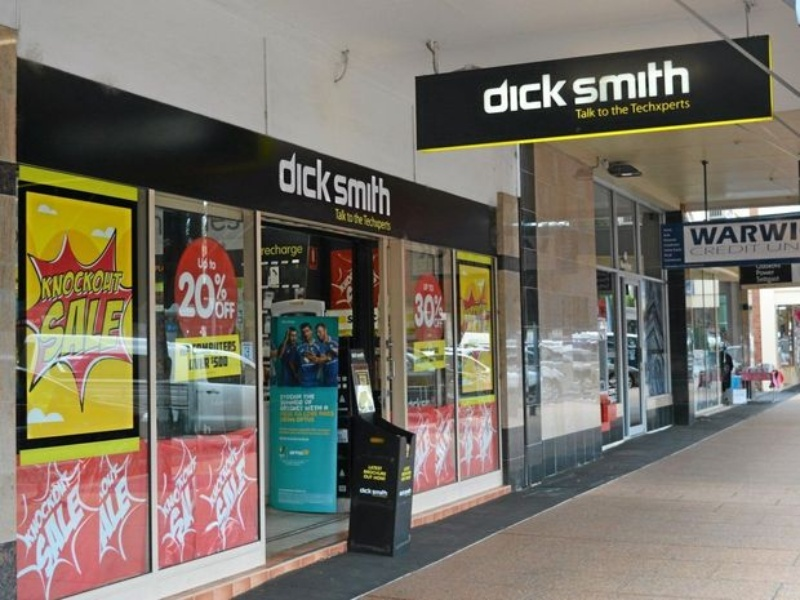text: (33, 482, 48, 579), (49, 482, 64, 579), (65, 482, 80, 579), (225, 452, 240, 532), (97, 474, 112, 551), (113, 474, 128, 551), (33, 478, 48, 549), (49, 478, 64, 549), (49, 293, 64, 363), (65, 293, 80, 363), (81, 293, 96, 363), (97, 293, 112, 363), (177, 481, 192, 551), (211, 452, 224, 532), (19, 478, 32, 549), (113, 293, 126, 363), (209, 447, 224, 504), (225, 447, 240, 504), (164, 481, 176, 551), (289, 149, 304, 203), (305, 149, 320, 203), (337, 168, 352, 217), (353, 168, 368, 217), (369, 168, 384, 217), (193, 270, 208, 319), (577, 57, 592, 105), (593, 57, 608, 105), (609, 57, 624, 105), (625, 57, 640, 105), (641, 57, 656, 105), (657, 57, 672, 105), (673, 57, 688, 105), (38, 293, 48, 363), (435, 421, 448, 474), (25, 482, 32, 579), (497, 70, 512, 115), (513, 70, 528, 115), (529, 70, 544, 115), (545, 70, 560, 115), (179, 270, 192, 319), (482, 70, 496, 115), (417, 430, 430, 477), (177, 452, 192, 492), (321, 149, 332, 203), (81, 482, 87, 579), (278, 149, 288, 203), (49, 266, 64, 301), (65, 266, 80, 301), (81, 266, 96, 301), (97, 266, 112, 301), (417, 293, 432, 328), (161, 486, 176, 518), (241, 452, 247, 532), (101, 461, 112, 497), (113, 266, 124, 301), (705, 221, 720, 246), (721, 221, 736, 246), (737, 221, 752, 246), (753, 221, 768, 246), (769, 221, 784, 246), (690, 221, 704, 246), (785, 221, 798, 246), (561, 70, 568, 115), (385, 168, 391, 217), (209, 270, 215, 319), (641, 97, 656, 115), (657, 97, 672, 115), (673, 97, 688, 115), (369, 213, 384, 231), (434, 295, 448, 314), (215, 273, 224, 300), (571, 57, 576, 105), (193, 355, 208, 371), (209, 355, 224, 371), (437, 419, 448, 440), (193, 340, 208, 355), (209, 340, 224, 355), (113, 461, 119, 497), (65, 478, 68, 549), (42, 266, 48, 301), (577, 106, 592, 119), (273, 244, 288, 257), (353, 212, 368, 225), (705, 243, 720, 256), (721, 243, 736, 256), (737, 243, 752, 256), (417, 422, 425, 446), (690, 243, 704, 256), (630, 97, 640, 115), (225, 340, 237, 355), (225, 301, 235, 319), (417, 354, 432, 366), (611, 104, 624, 117), (289, 244, 302, 257), (215, 301, 224, 319), (193, 452, 197, 492), (210, 259, 224, 270), (129, 474, 131, 551), (369, 487, 384, 497), (401, 468, 416, 478), (769, 242, 784, 252), (333, 168, 336, 217), (261, 244, 272, 257), (419, 346, 432, 357), (785, 242, 799, 252), (337, 207, 346, 222), (401, 474, 416, 483), (597, 106, 608, 118), (197, 257, 208, 269), (433, 354, 444, 366), (177, 486, 181, 518), (434, 319, 448, 328), (289, 404, 304, 412), (369, 469, 384, 477), (401, 487, 411, 499), (403, 464, 416, 473), (206, 447, 208, 504), (241, 447, 243, 504), (305, 404, 320, 411), (369, 474, 384, 481), (755, 275, 768, 283), (689, 57, 691, 105), (289, 394, 302, 401), (755, 262, 768, 269), (363, 213, 368, 231), (385, 213, 390, 231), (359, 487, 368, 497), (769, 275, 780, 283), (769, 262, 781, 269), (225, 273, 228, 300), (422, 283, 432, 291), (291, 450, 304, 456), (753, 243, 759, 256), (755, 269, 768, 275), (289, 412, 304, 417), (305, 412, 320, 417), (289, 417, 304, 422), (346, 212, 352, 224), (279, 404, 288, 412), (193, 481, 194, 551), (305, 394, 315, 401), (433, 346, 439, 357), (369, 465, 382, 470), (188, 355, 192, 371), (279, 394, 288, 401), (321, 412, 333, 417), (289, 431, 304, 435), (305, 431, 320, 435), (346, 315, 352, 324), (449, 421, 450, 474), (593, 106, 597, 119), (625, 104, 629, 117), (662, 228, 672, 233), (321, 404, 328, 411), (225, 355, 228, 371), (415, 430, 416, 477), (279, 412, 288, 417), (305, 401, 320, 404), (289, 401, 304, 404), (305, 428, 320, 431), (289, 437, 304, 440), (290, 428, 304, 431), (175, 452, 176, 492), (305, 417, 313, 422), (363, 469, 368, 477), (662, 233, 672, 237), (662, 238, 672, 242), (662, 243, 672, 247), (689, 97, 691, 115), (279, 431, 288, 435), (769, 269, 775, 275), (281, 417, 288, 422), (363, 474, 368, 481), (415, 293, 416, 328), (433, 293, 434, 328), (664, 248, 672, 252), (673, 248, 681, 252), (664, 253, 672, 257), (321, 428, 331, 431), (385, 487, 388, 497), (321, 431, 328, 435), (279, 401, 288, 404), (279, 437, 288, 440), (305, 450, 309, 456), (673, 243, 679, 247), (664, 259, 672, 262), (673, 259, 681, 262), (766, 242, 768, 252), (673, 238, 677, 242), (335, 207, 336, 222), (191, 340, 192, 355), (575, 106, 576, 119), (609, 106, 610, 118), (399, 487, 400, 499), (415, 354, 416, 366), (305, 437, 308, 440), (385, 469, 386, 477), (433, 283, 434, 291), (385, 474, 386, 481), (367, 465, 368, 470)
